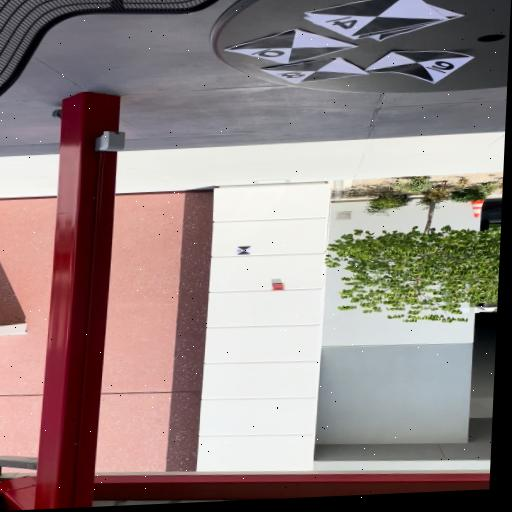target6: (237, 246, 252, 255)
